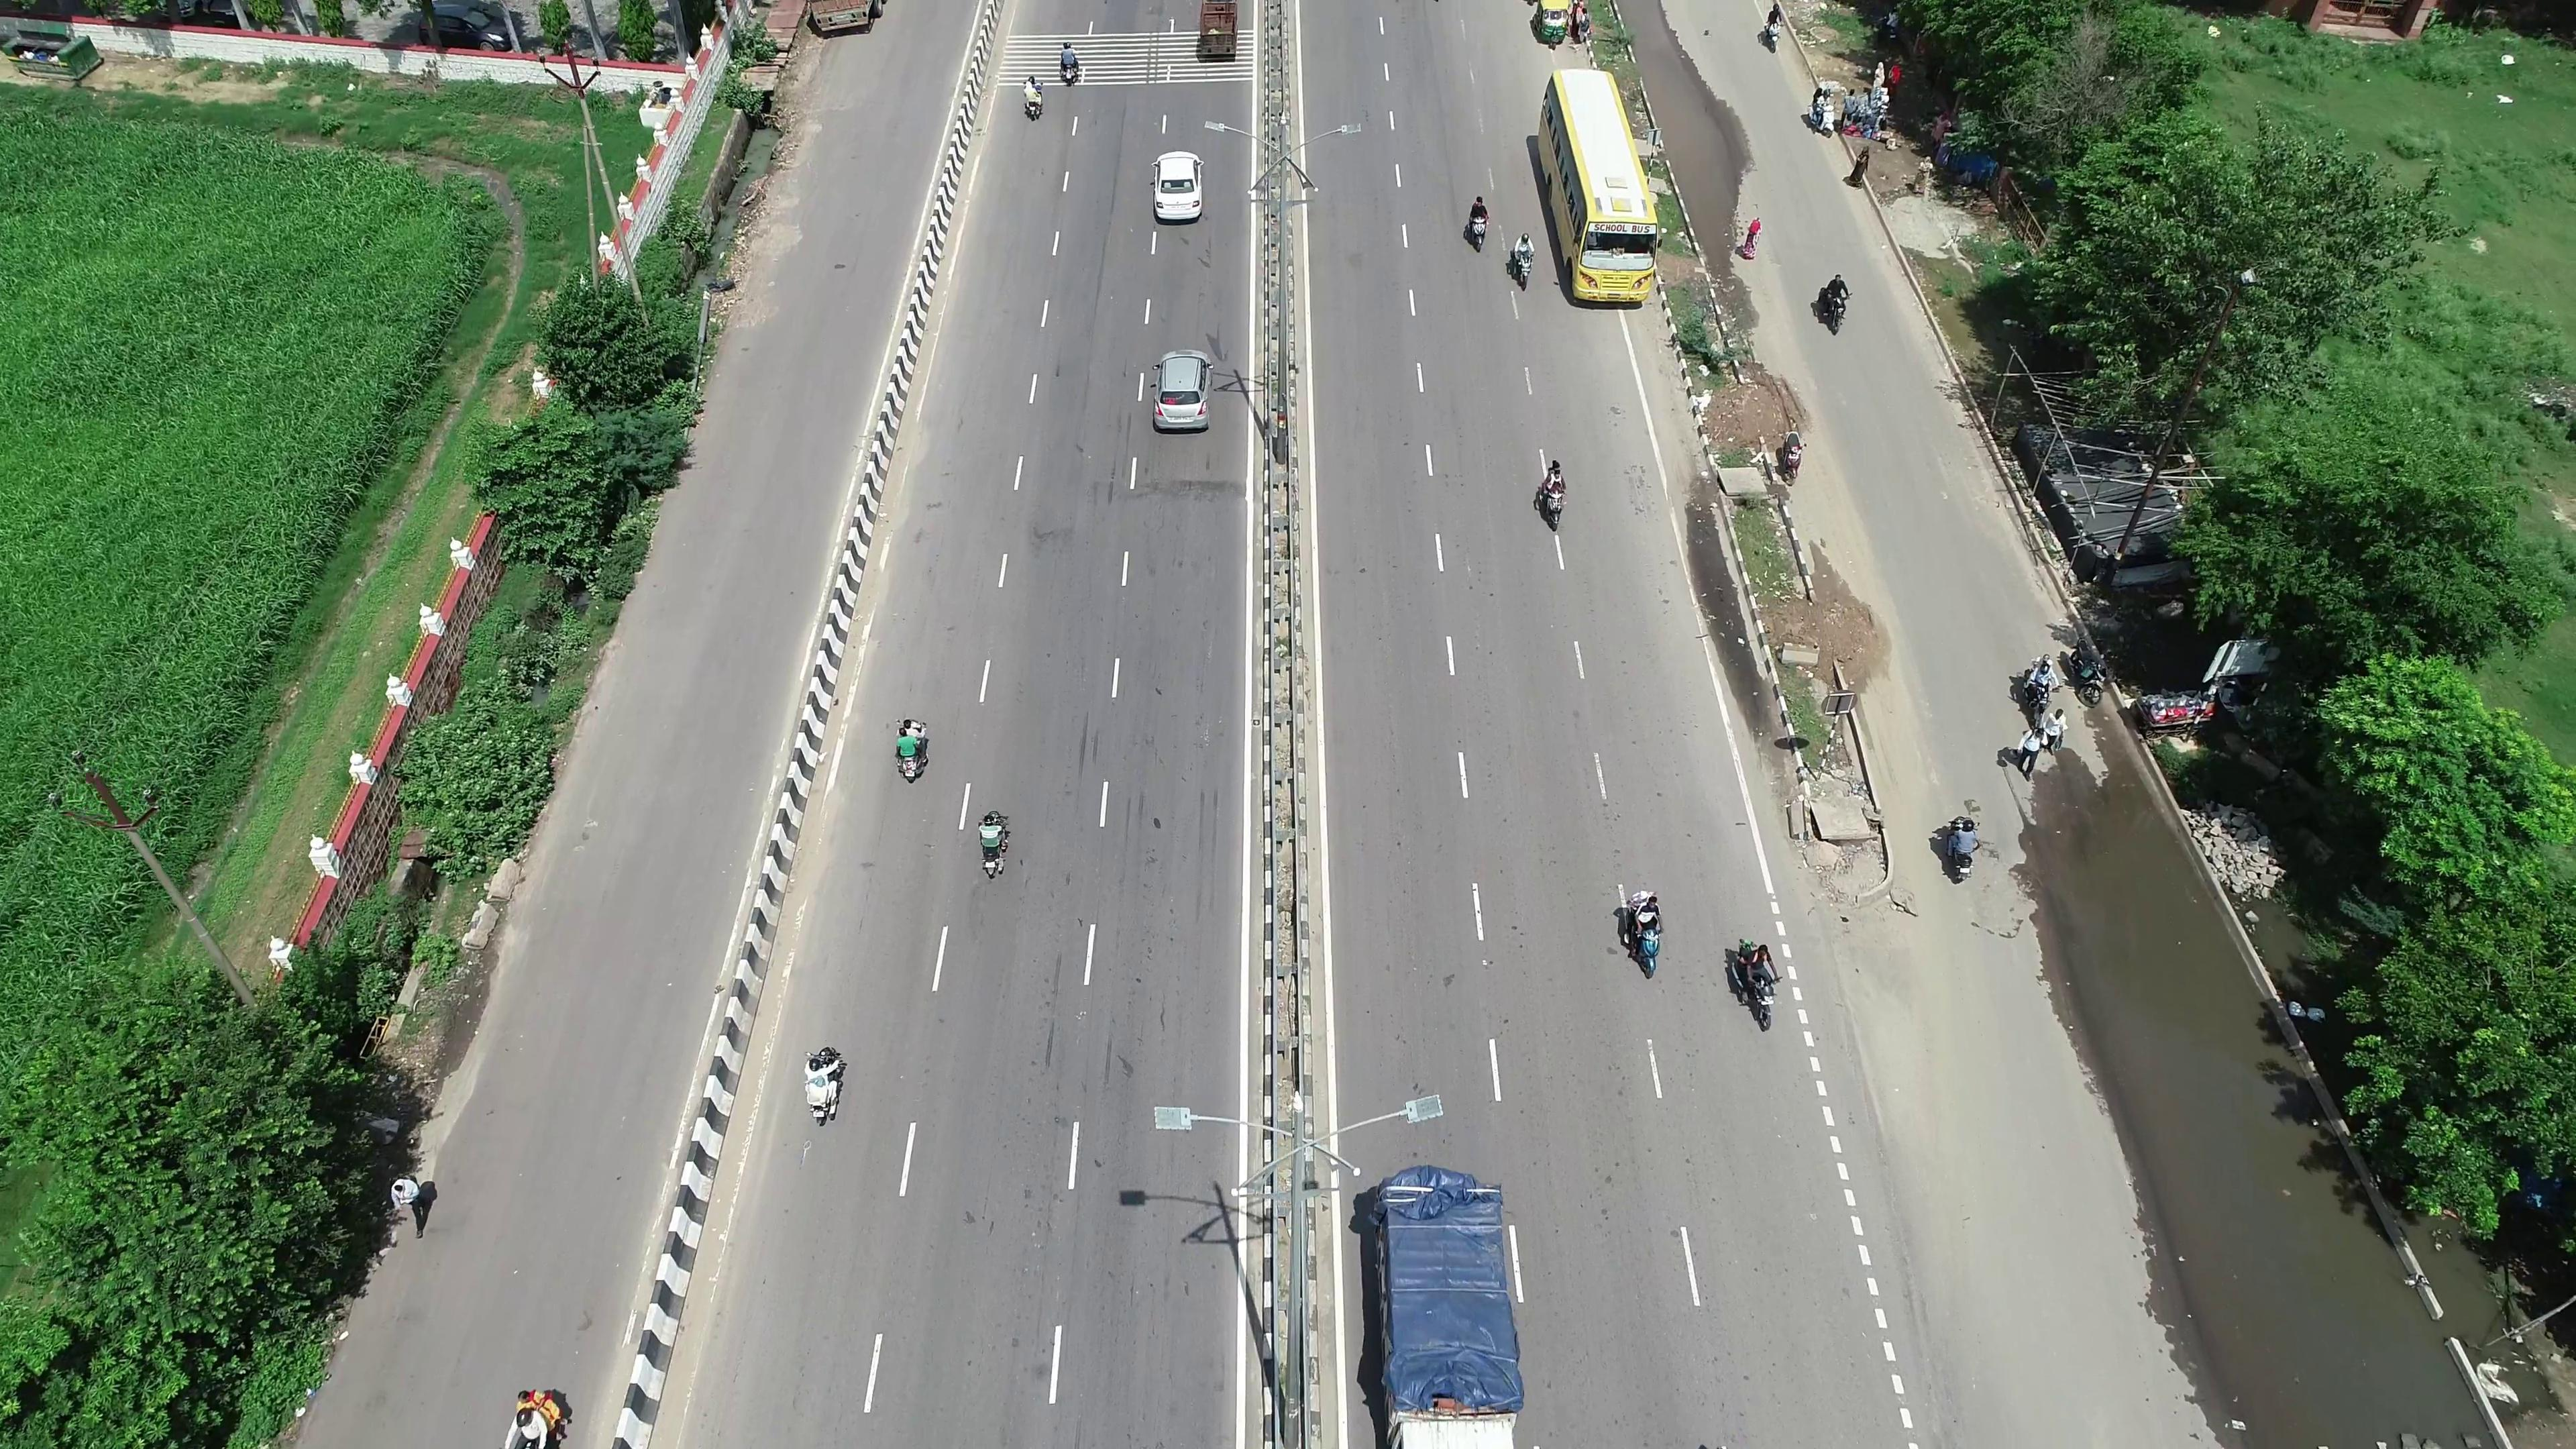Waterlogging: (2026, 805, 2344, 1364), (1635, 9, 1748, 216)
